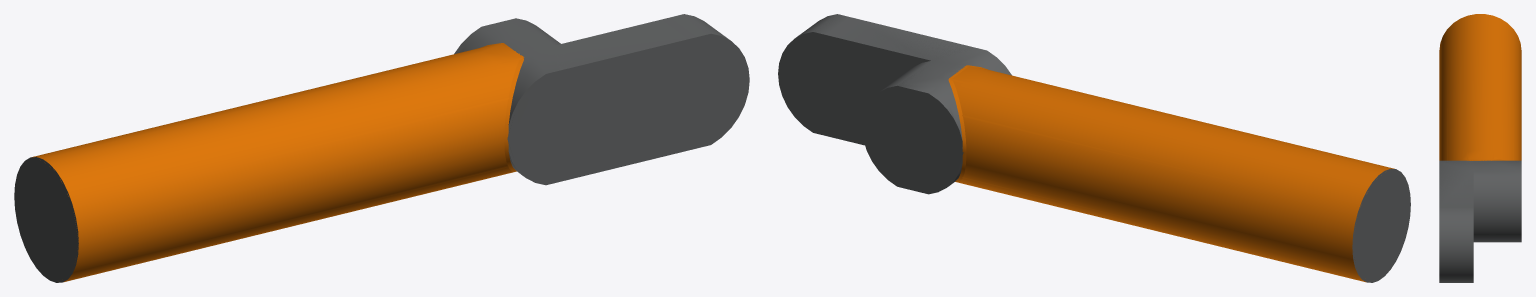
The picture shows the model from 3 angles, left to right: view 1: azimuth 30°, elevation 25°; view 2: azimuth 150°, elevation 25°; view 3: azimuth 270°, elevation 25°; orthographic projection. The views are drawn at different scales.
Visible parts, largest first — view 1: b3_LOD0, b3_col; view 2: b3_LOD0, b3_col; view 3: b3_LOD0, b3_col.
Boxes of the visible parts, x1=… form: b3_LOD0: x1=14, y1=14, x2=749, y2=282; b3_col: x1=14, y1=14, x2=740, y2=282; b3_LOD0: x1=778, y1=14, x2=1410, y2=282; b3_col: x1=778, y1=14, x2=1410, y2=282; b3_LOD0: x1=1439, y1=14, x2=1521, y2=282; b3_col: x1=1439, y1=69, x2=1521, y2=211.
Size of what is drawn, in the model's own units: 71.97 by 11.93 by 12.
